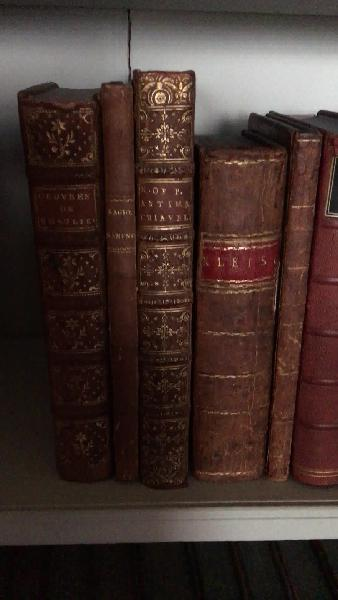Aa6-10: (265, 120, 320, 490)
Aa6-6: (20, 95, 111, 489)
Aa6-7: (97, 77, 138, 484)
Aa6-8: (129, 64, 192, 489)
Aa6-9: (191, 141, 278, 486)
